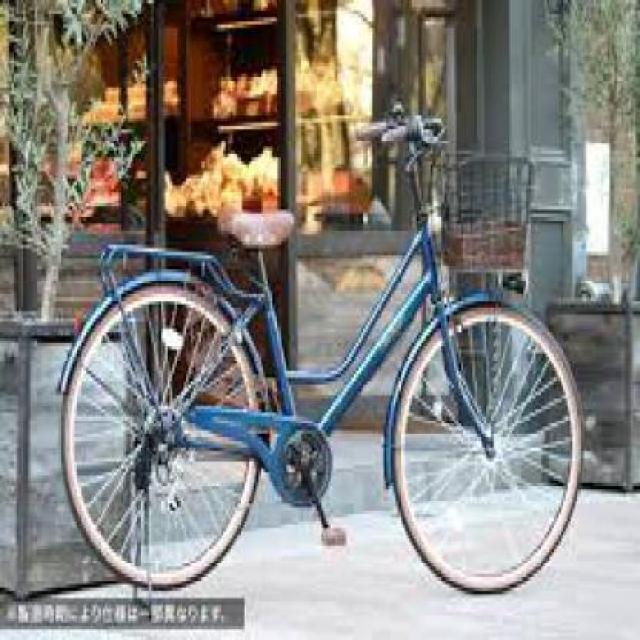bicycle: (32, 114, 605, 603)
